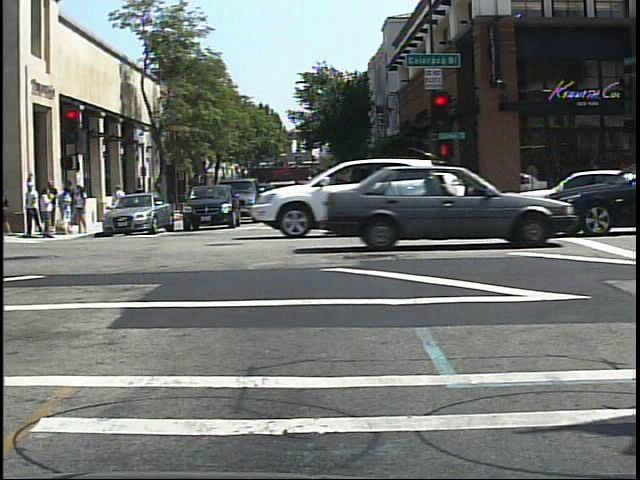person: (109, 181, 128, 224)
